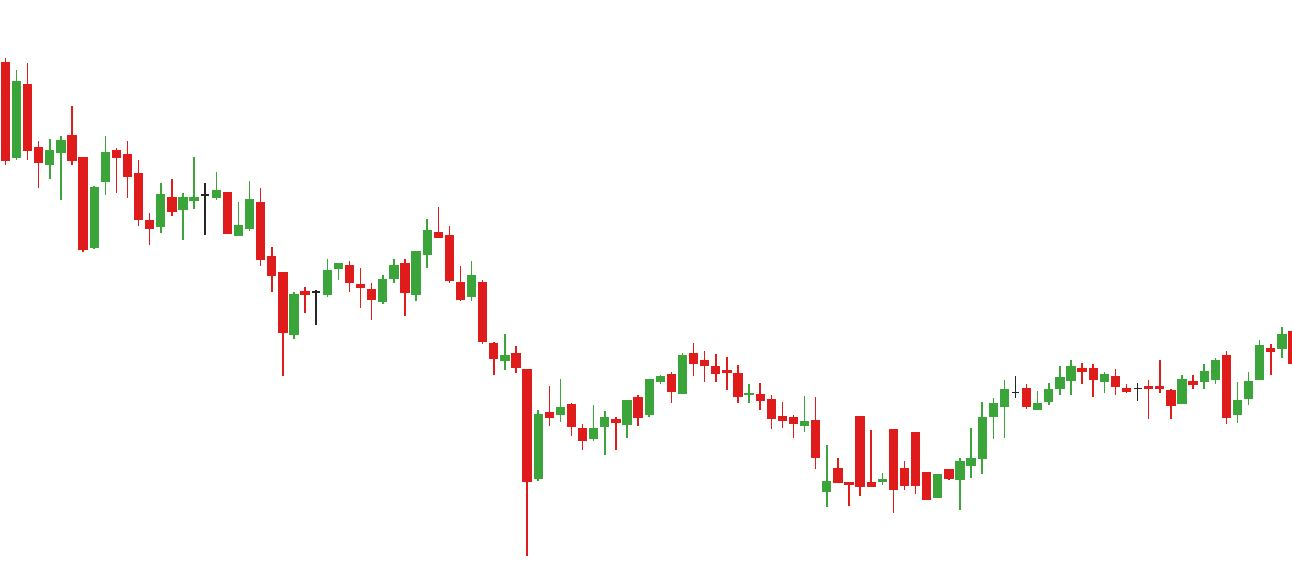buy: (1163, 383, 1242, 427)
